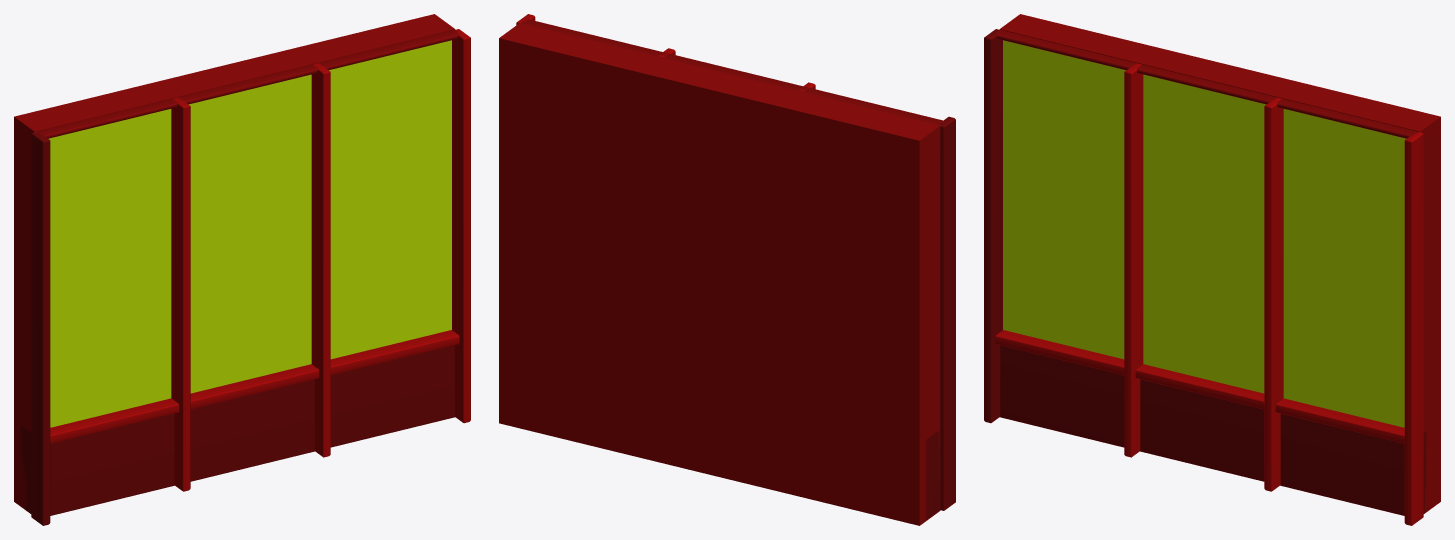
Rendered from fac_glass_a.glb.
The picture shows the model from 3 angles, left to right: view 1: azimuth 30°, elevation 25°; view 2: azimuth 150°, elevation 25°; view 3: azimuth 330°, elevation 25°; orthographic projection.
Parts seen in each view (by area): view 1: fac_glass_a; view 2: fac_glass_a; view 3: fac_glass_a.
Boxes of the visible parts, x1,y1,x2,y2 form: fac_glass_a: (14, 14, 470, 525); fac_glass_a: (499, 14, 955, 525); fac_glass_a: (984, 14, 1440, 525).
Bounding box in the file's own units: 4.08 × 3.5 × 0.54.
